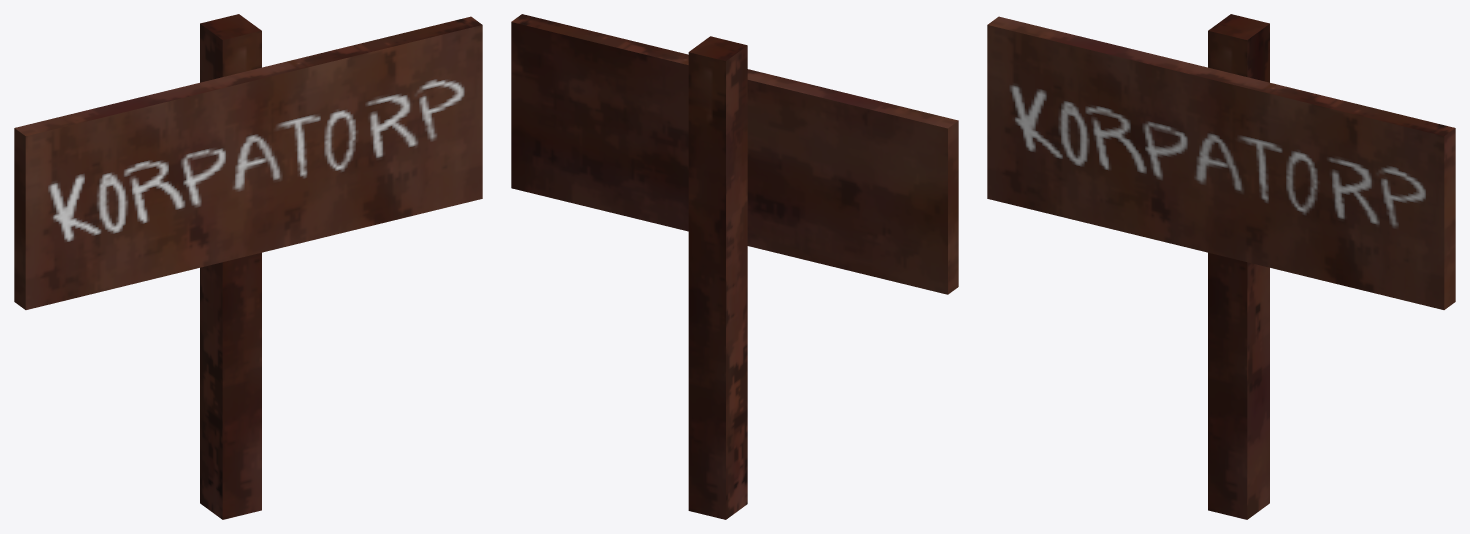
Rendered from Sign.fbx.
3 views of the same model, side by side, from view 1: azimuth 30°, elevation 25°; view 2: azimuth 150°, elevation 25°; view 3: azimuth 330°, elevation 25° (orthographic). The views are drawn at different scales.
Parts seen in each view (by area): view 1: Sign; view 2: Sign; view 3: Sign.
Part boxes in pixels (x1,y1,x2,y2): Sign: (14,14,482,519); Sign: (511,14,958,519); Sign: (987,14,1455,519).
Bounding box in the file's own units: 200 × 201 × 26.34.
1 material, 1 textured.
